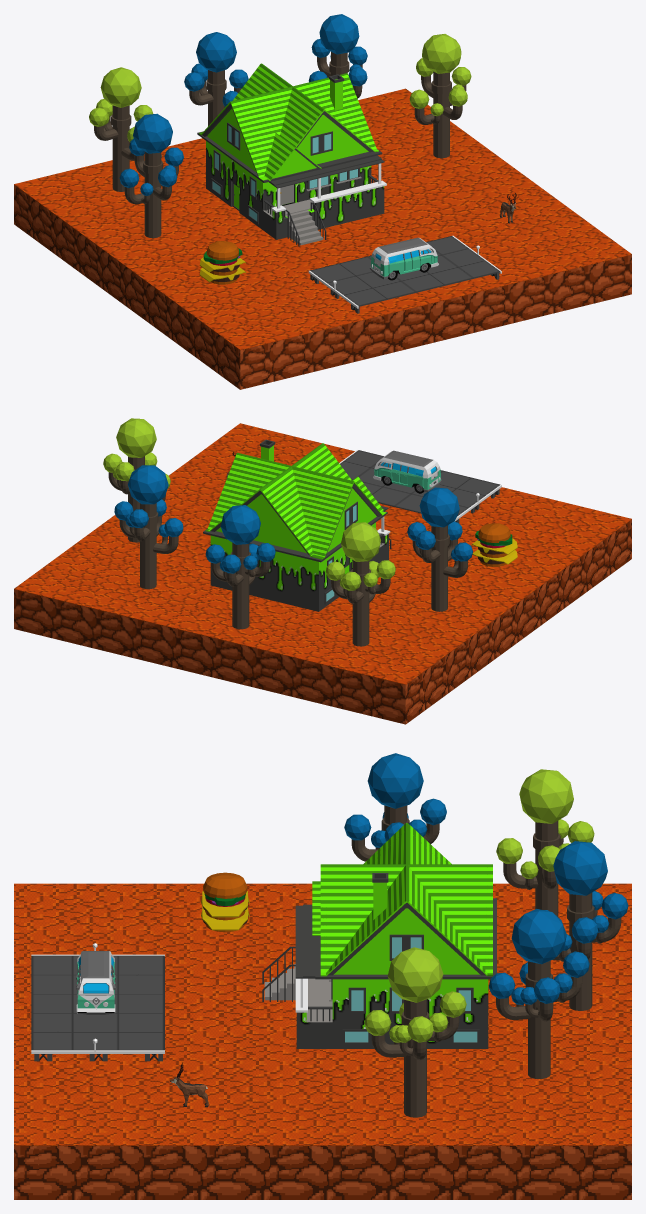
3 views of the same model, one above another, from view 1: azimuth 30°, elevation 25°; view 2: azimuth 150°, elevation 25°; view 3: azimuth 270°, elevation 25° (orthographic). The views are drawn at different scales.
Visible parts, largest first — view 1: Cube.001, Cube.754, VEHICLES_VAN, OBJRANDOM_HAMBURGER; view 2: Cube.001, Cube.754, VEHICLES_VAN, OBJRANDOM_HAMBURGER; view 3: Cube.001, Cube.754, OBJRANDOM_HAMBURGER, VEHICLES_VAN.
Boxes of the visible parts, <box> form: Cube.001: <box>14,14,631,389</box>; Cube.754: <box>197,63,386,246</box>; VEHICLES_VAN: <box>369,237,438,280</box>; OBJRANDOM_HAMBURGER: <box>199,241,245,284</box>; Cube.001: <box>14,418,631,724</box>; Cube.754: <box>203,439,391,611</box>; VEHICLES_VAN: <box>373,450,442,493</box>; OBJRANDOM_HAMBURGER: <box>471,523,517,566</box>; Cube.001: <box>14,753,631,1199</box>; Cube.754: <box>262,823,496,1048</box>; OBJRANDOM_HAMBURGER: <box>201,872,249,932</box>; VEHICLES_VAN: <box>76,951,116,1014</box>.
Bounding box in the file's own units: 4000 × 1672 × 4000.
Materials: 37 (5 with a texture image).
